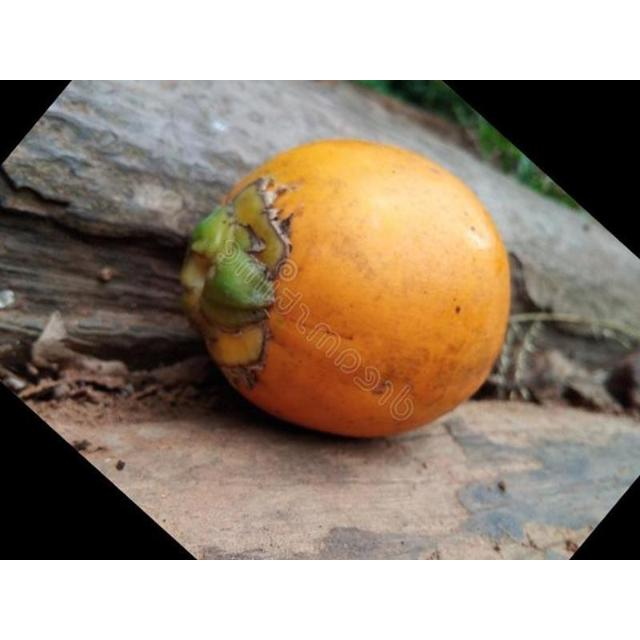good: (180, 139, 512, 440)
